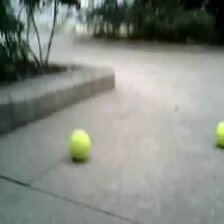tennis: (68, 130, 92, 158), (214, 121, 224, 147)
